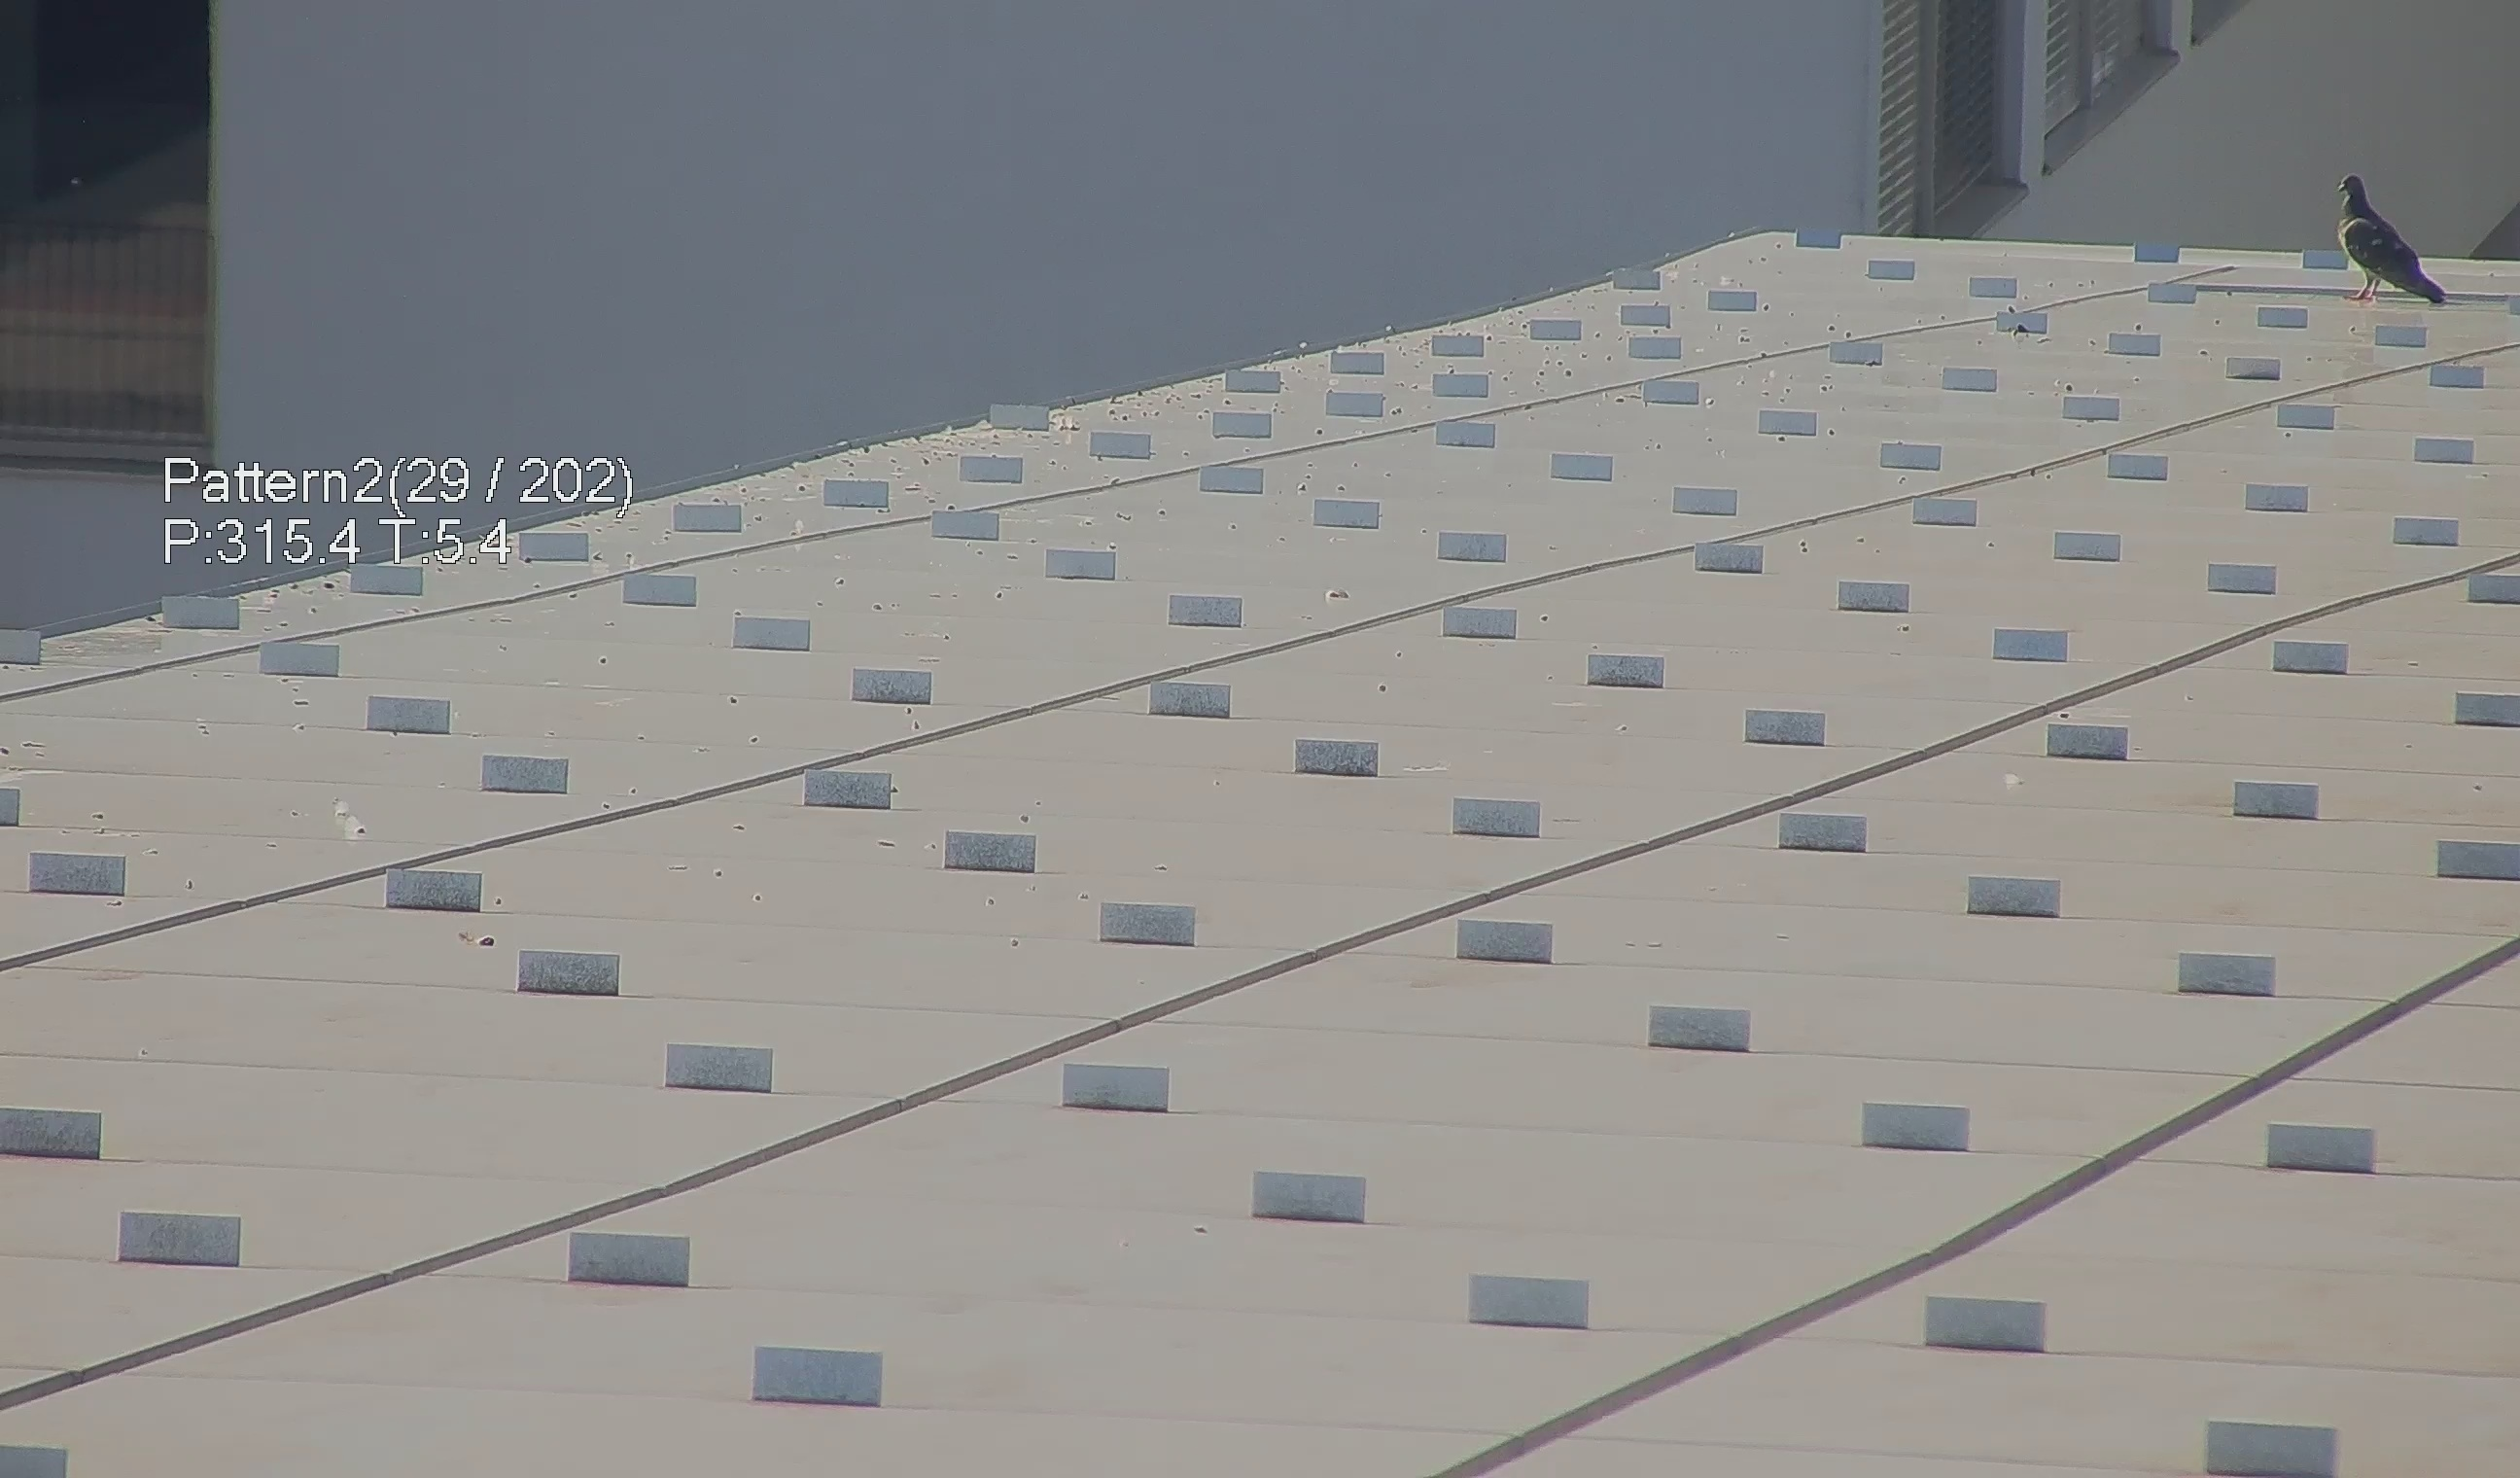Pigeon: (2330, 158, 2469, 317)
